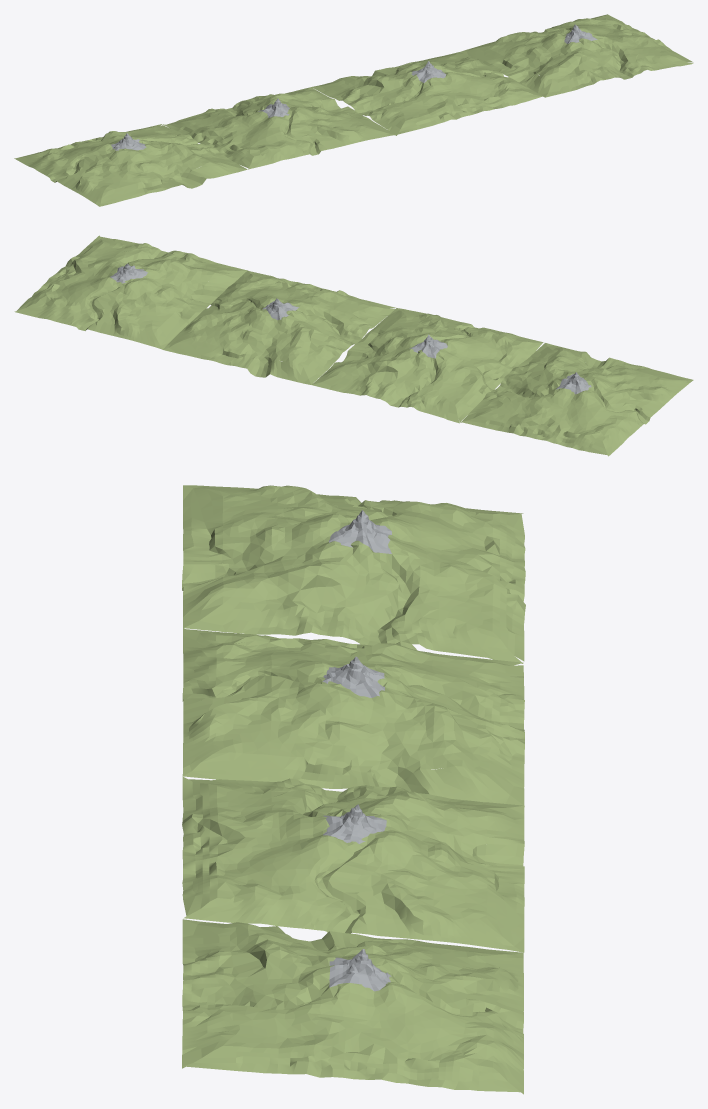
File: Ground.fbx
The picture shows the model from 3 angles, top to bottom: view 1: azimuth 30°, elevation 25°; view 2: azimuth 150°, elevation 25°; view 3: azimuth 270°, elevation 25°; orthographic projection. The views are drawn at different scales.
Visible parts, largest first — view 1: polySurface1; view 2: polySurface1; view 3: polySurface1.
Part boxes in pixels (x1,y1,x2,y2): polySurface1: [14, 14, 693, 206]; polySurface1: [14, 235, 693, 456]; polySurface1: [182, 485, 525, 1094].
Size of the model in its own units: 236 by 16.41 by 59.01.
